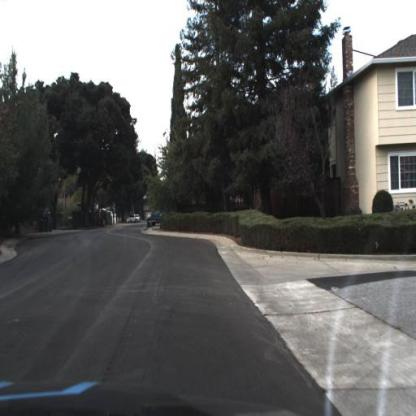car: (152, 202, 173, 227), (129, 215, 138, 224), (135, 216, 142, 224)
pedestrian: (149, 215, 152, 221)
